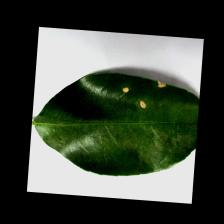canker: (119, 70, 174, 114)
